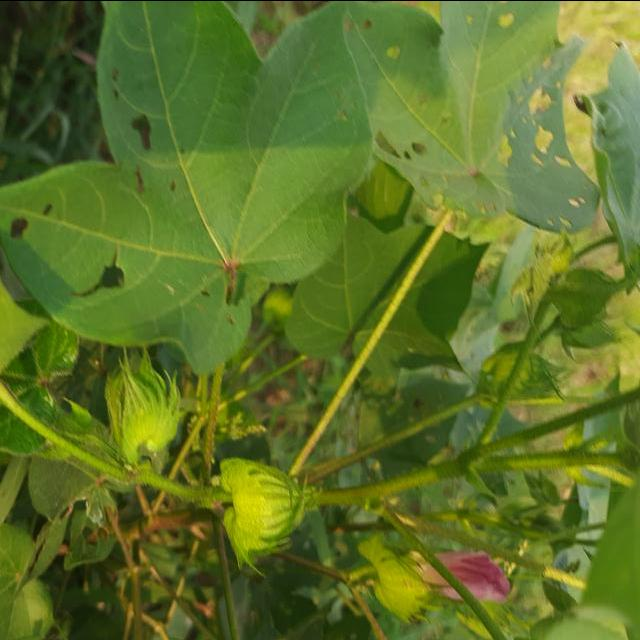Cotton Blossom: (404, 542, 516, 606)
Cotton Bud: (215, 452, 312, 573), (108, 346, 182, 472)
